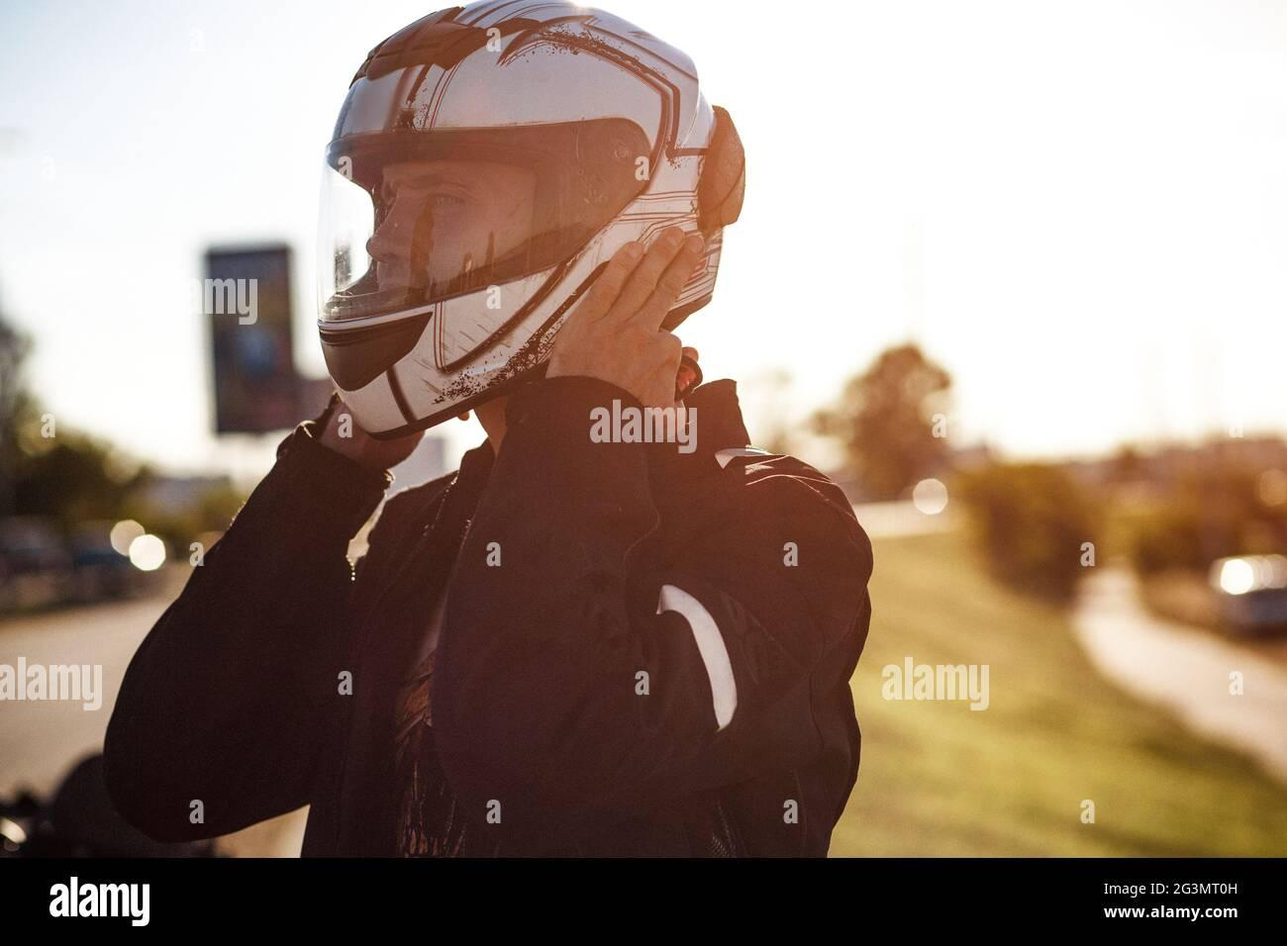Helmet: (319, 0, 746, 436)
